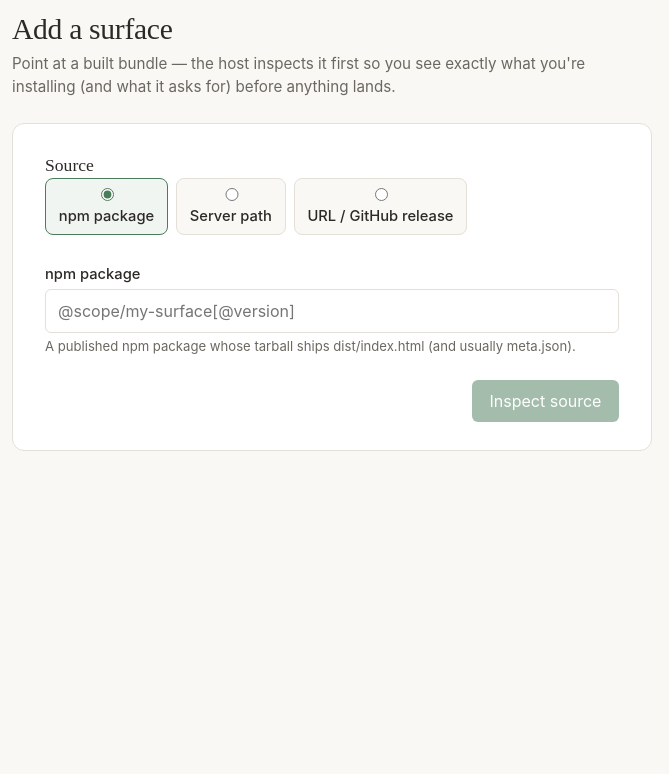
Test case: Add — inspect step › Inspect source POSTs /surface/inspect and shows derived meta fields
Type "@openparachute/my-ui" into the field with placeholder "@scope/my-surface[@version]" at (332, 311), box [45, 289, 619, 333]
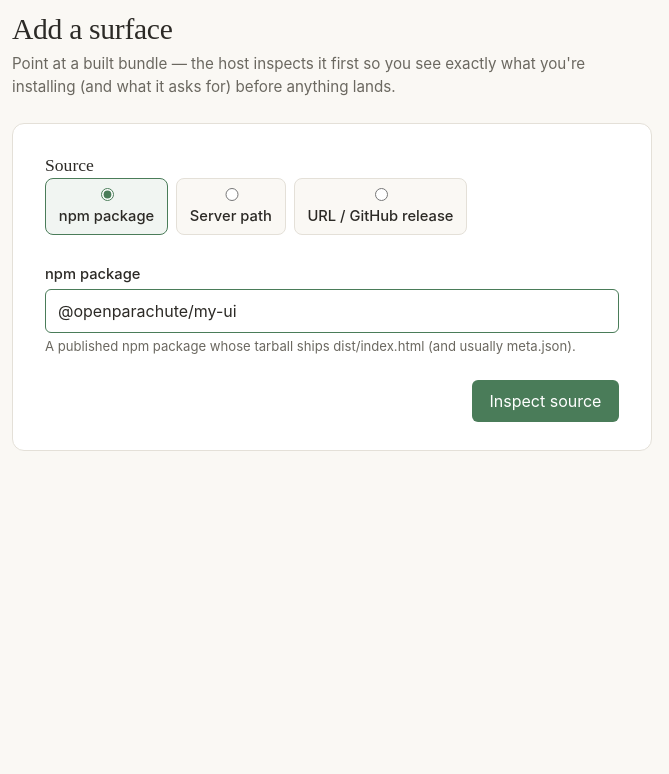
Click the button "Inspect source" at (545, 401), box [472, 380, 619, 422]
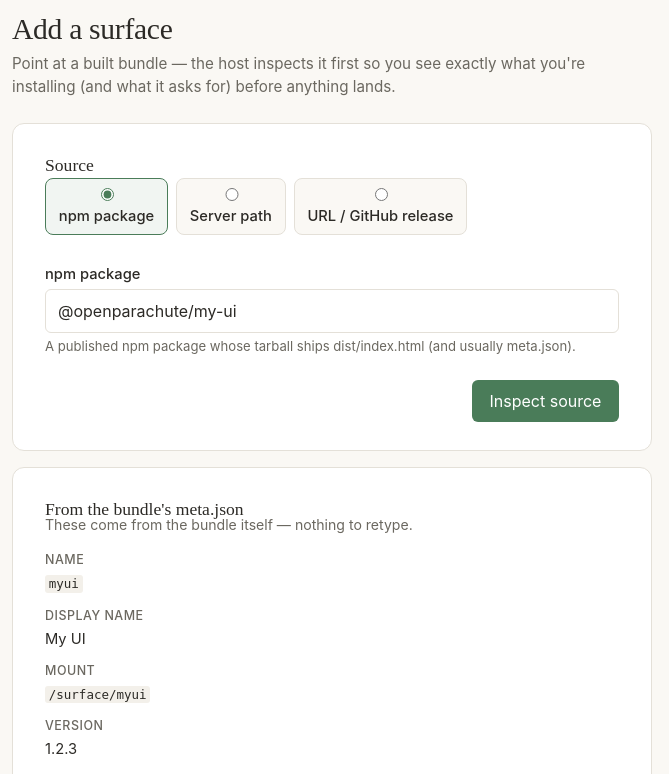
Check: the text "From the bundle's meta.json" is shown, box [45, 496, 244, 522]
Check: the text "myui" is shown, box [45, 575, 83, 593]
Check: the text "/surface/myui" is shown, box [45, 686, 150, 703]
